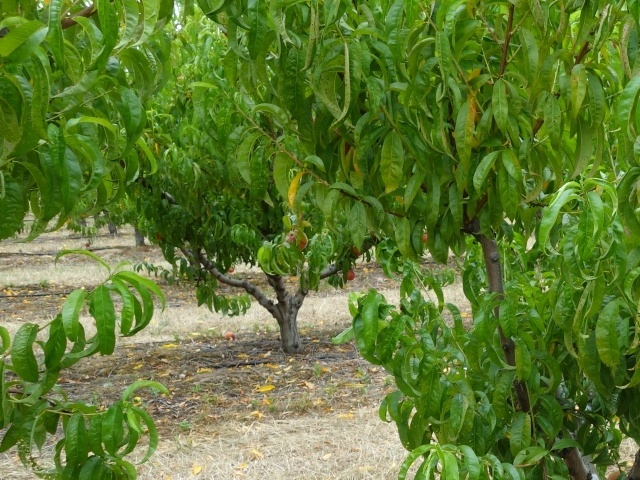peach: (282, 228, 309, 252)
